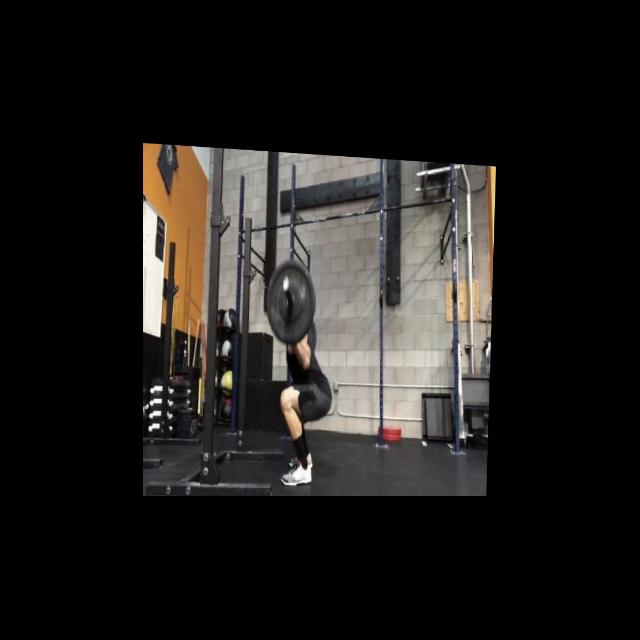barbell: (264, 254, 318, 345)
